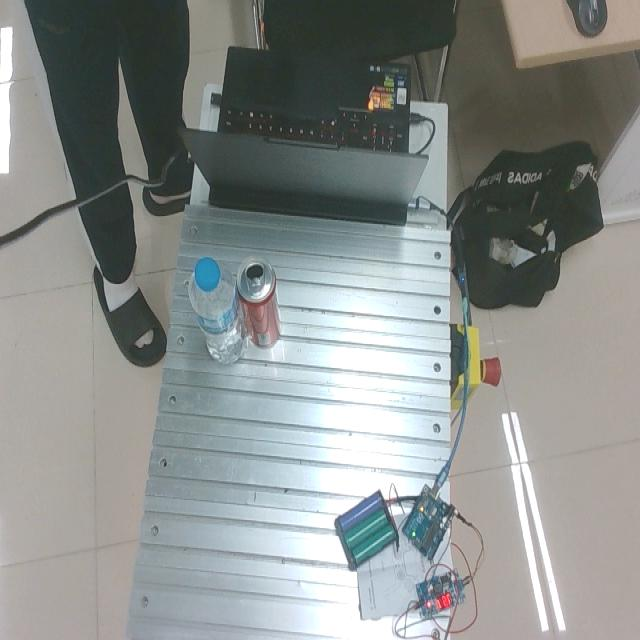coca: (237, 256, 282, 348)
lavie: (189, 257, 246, 364)
